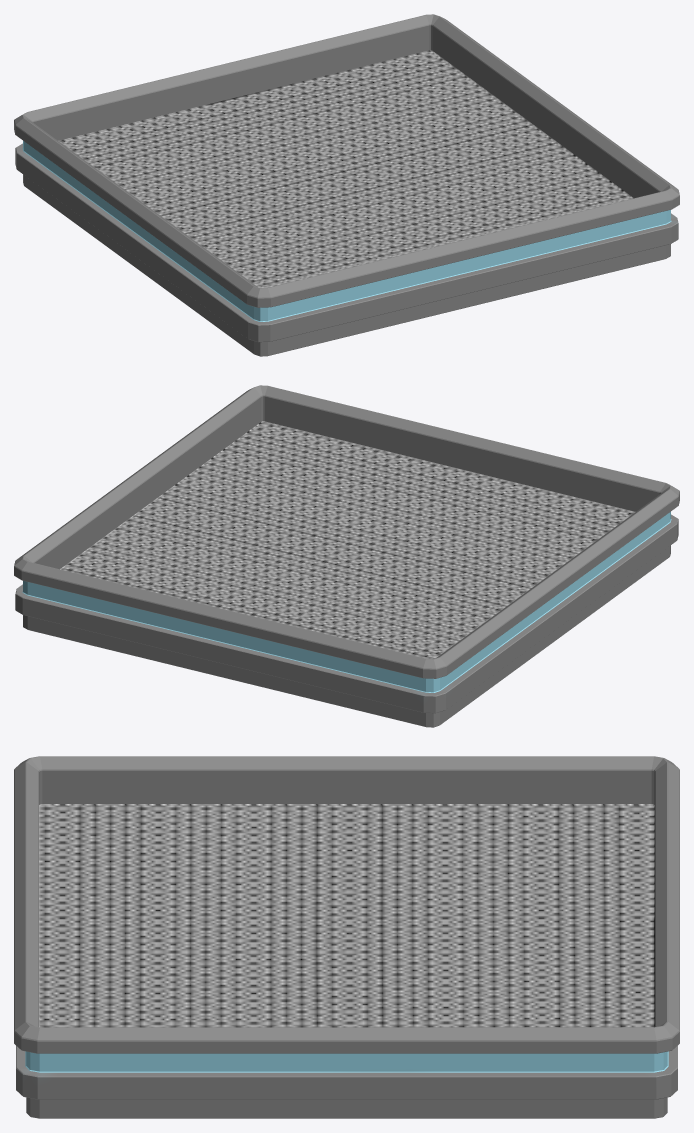
Rendered from SM_Flower_pot.fbx.
3 renders of one model, top to bottom at view 1: azimuth 30°, elevation 25°; view 2: azimuth 150°, elevation 25°; view 3: azimuth 270°, elevation 25°, orthographic. The views are drawn at different scales.
Parts seen in each view (by area): view 1: SM_Flower_pot; view 2: SM_Flower_pot; view 3: SM_Flower_pot.
Boxes of the visible parts, <box> form: SM_Flower_pot: <box>14,14,679,356</box>; SM_Flower_pot: <box>14,385,679,727</box>; SM_Flower_pot: <box>14,756,679,1118</box>.
Bounding box in the file's own units: 179 × 179 × 27.09.
1 material, 1 textured.
